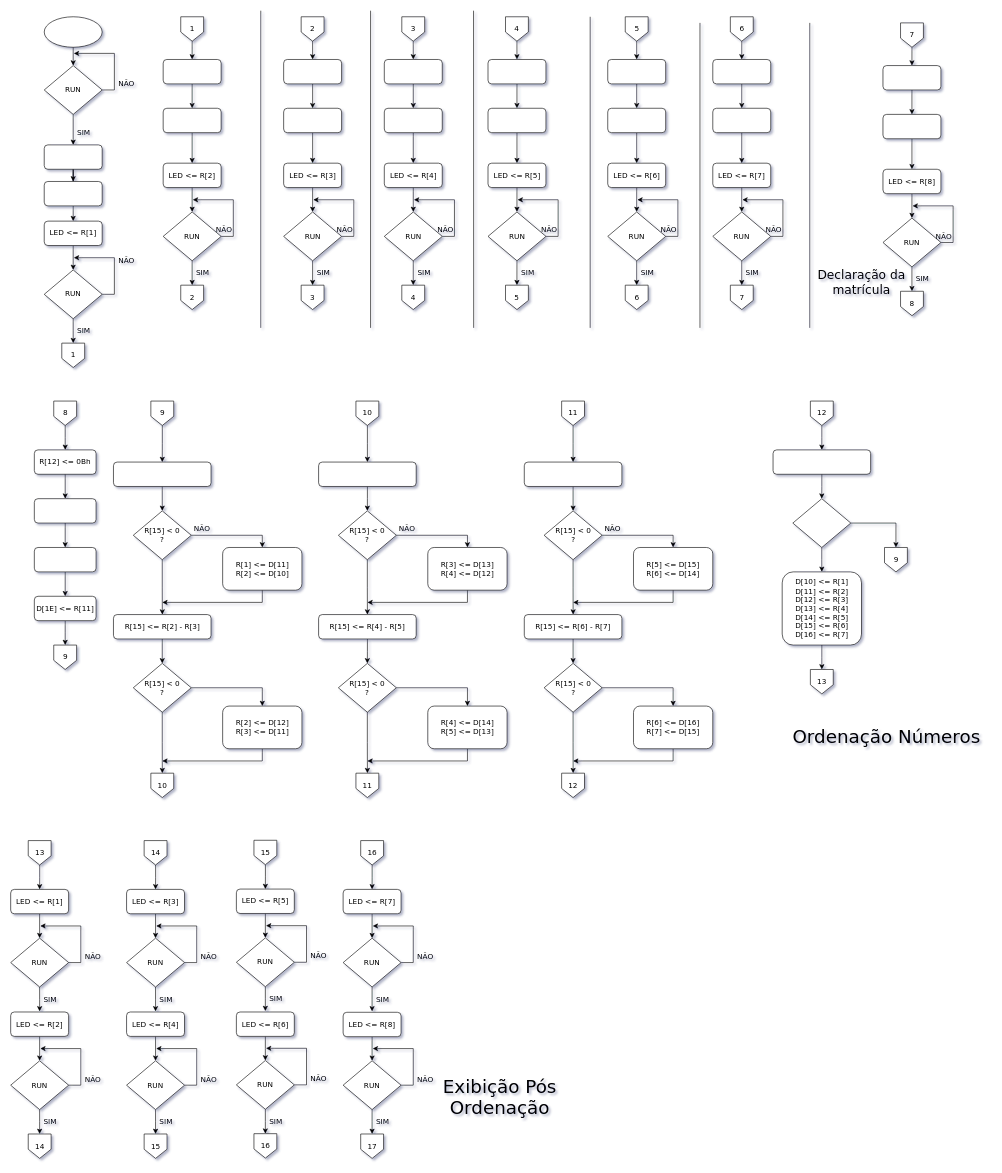
The diagram is 1002 pixels wide and 1173 high, and some of its shapes have lost their labels. Here are the shapes that lost their labels. From the top down, the centre of each, then its label:
(73,31): Início
(192,71): R[2] <= ch
(312,71): R[3] <= ch
(413,71): R[4] <= ch
(516,71): R[5] <= ch
(636,71): R[6] <= ch
(741,71): R[7] <= ch
(911,77): R[8] <= FFh
(192,120): R[2] => D[11]
(312,120): R[3] => D[12]
(413,120): R[4] => D[13]
(516,120): R[5] => D[14]
(636,120): R[6] => D[15]
(741,120): R[7] => D[16]
(911,126): R[8] => D[17]
(73,156): R[1] <= ch
(73,193): R[1] => D[10]
(162,473): R[15] <= R[1] - R[2]
(367,473): R[15] <= R[3] - R[4]
(573,473): R[15] <= R[5] - R[6]
(821,461): R[12] <= R[12] - R[11]
(65,510): D[1F] <= R[12]
(821,522): R[12] = 0 ?
(65,559): R[11] <= 01h
